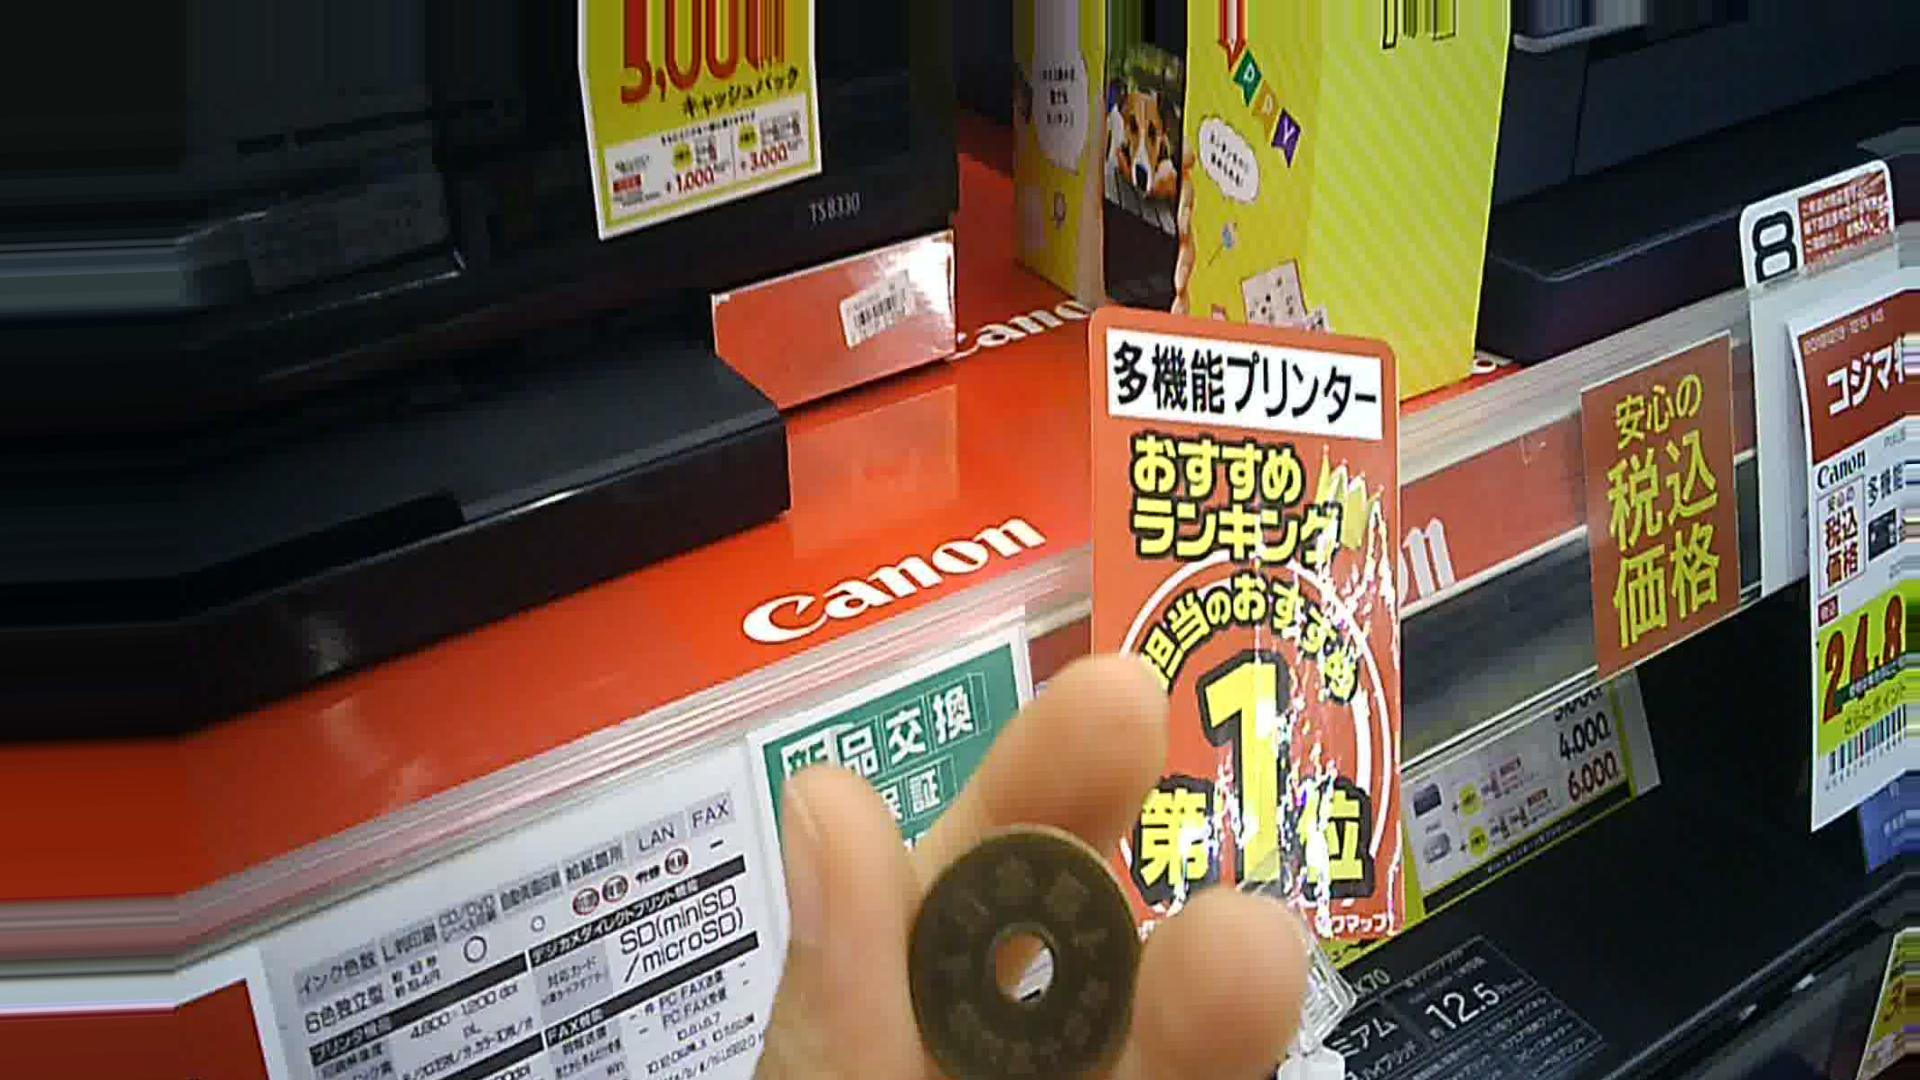5 Yen: (898, 823, 1135, 1079)
